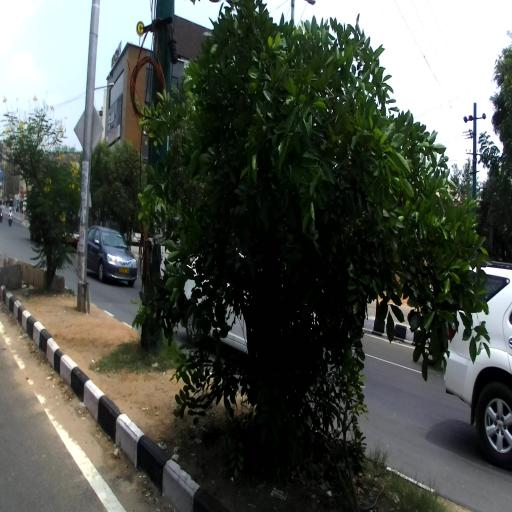street_light_0: (84, 82, 115, 97), (290, 0, 317, 9)
